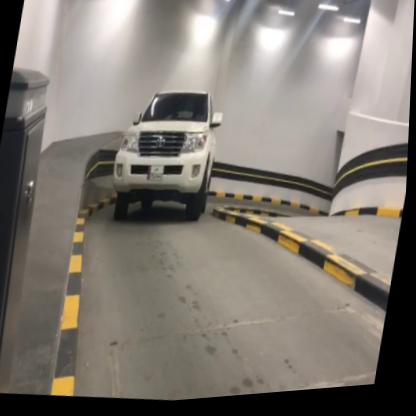np: (145, 162, 168, 187)
